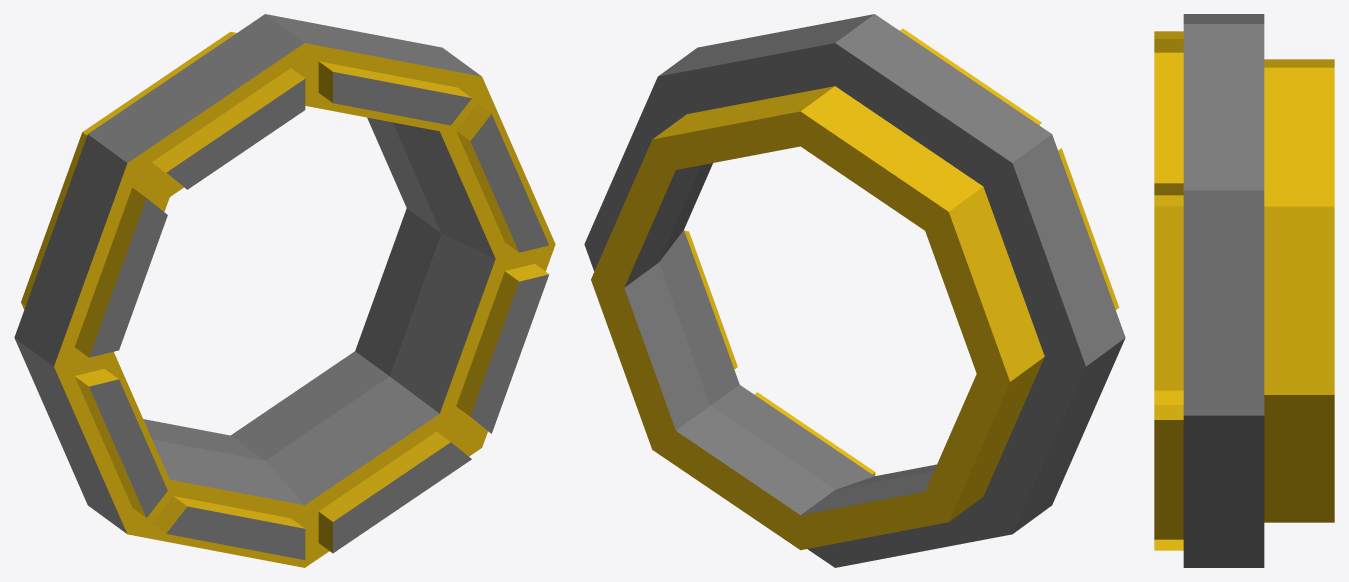
File: BaseTower fire upgrade 2.fbx
3 renders of one model, left to right at view 1: azimuth 30°, elevation 25°; view 2: azimuth 150°, elevation 25°; view 3: azimuth 270°, elevation 25°, orthographic.
Parts seen in each view (by area): view 1: TowerBase fire 2; view 2: TowerBase fire 2; view 3: TowerBase fire 2.
Part boxes in pixels (x1=…): TowerBase fire 2: x1=14, y1=14, x2=555, y2=567; TowerBase fire 2: x1=584, y1=14, x2=1125, y2=567; TowerBase fire 2: x1=1154, y1=14, x2=1334, y2=567.
Bounding box in the file's own units: 29.16 × 29.16 × 8.93.
